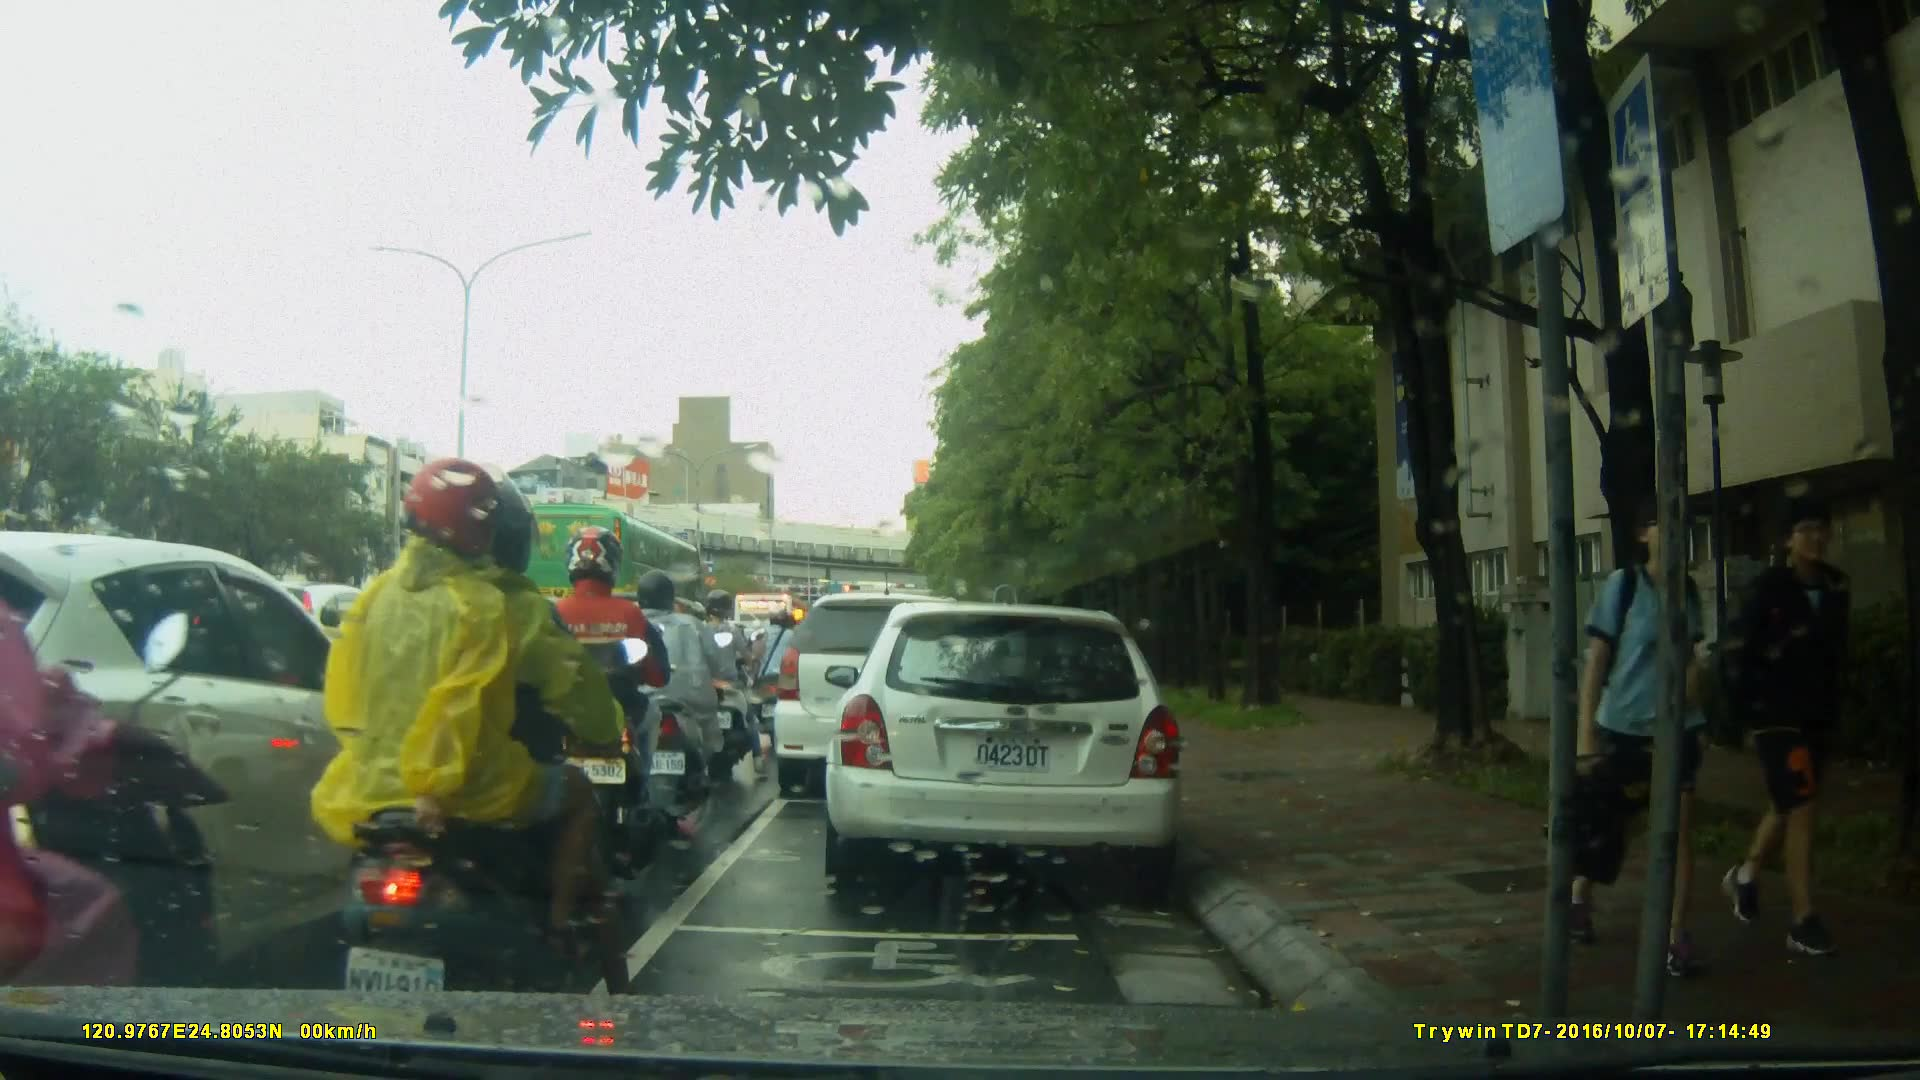pedestrian: (1533, 476, 1748, 984), (1708, 505, 1856, 950)
rider: (309, 459, 622, 1040), (1, 382, 231, 1063), (532, 525, 680, 870), (610, 570, 728, 817), (688, 584, 766, 772), (751, 607, 811, 742)
vehicle: (2, 532, 460, 988), (831, 592, 1196, 897), (321, 590, 629, 776), (770, 590, 999, 804), (495, 500, 708, 636)
